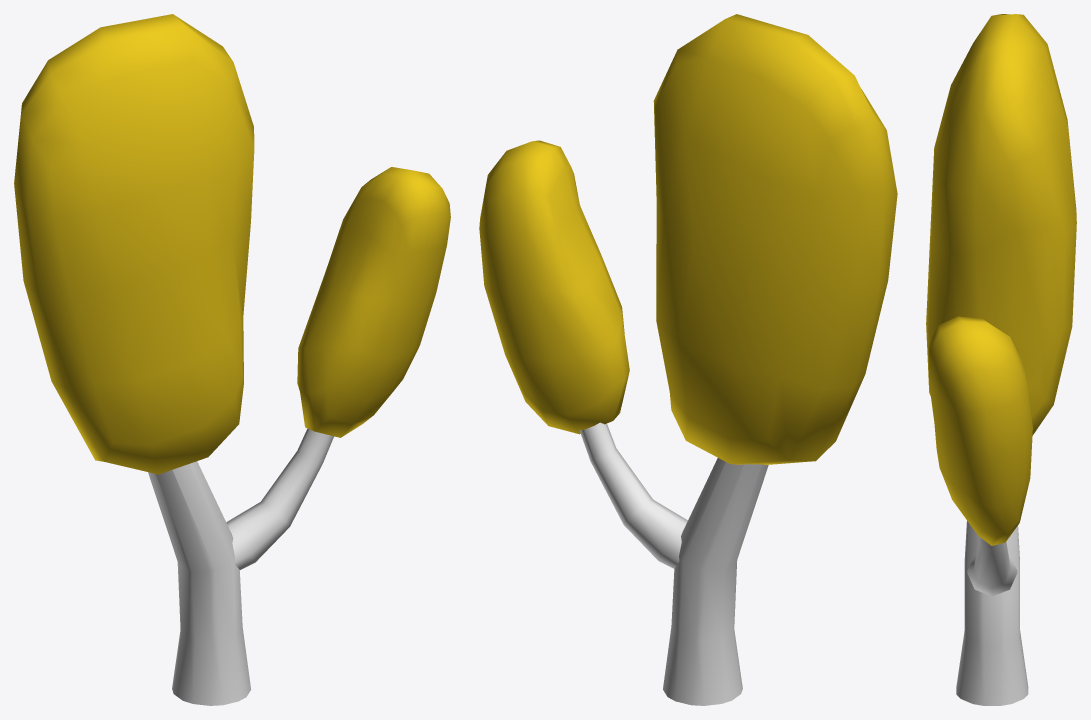
Rendered from birch 1.1.fbx.
3 renders of one model, left to right at view 1: azimuth 30°, elevation 25°; view 2: azimuth 150°, elevation 25°; view 3: azimuth 270°, elevation 25°, orthographic. The views are drawn at different scales.
Parts seen in each view (by area): view 1: Cube.001, Cube, Cylinder, Cylinder.001; view 2: Cube.001, Cube, Cylinder, Cylinder.001; view 3: Cube.001, Cube, Cylinder, Cylinder.001.
Part boxes in pixels (x1=…): Cube.001: x1=14, y1=14, x2=254, y2=474; Cube: x1=297, y1=167, x2=450, y2=437; Cylinder: x1=148, y1=461, x2=251, y2=705; Cylinder.001: x1=226, y1=428, x2=333, y2=569; Cube.001: x1=653, y1=14, x2=897, y2=464; Cube: x1=479, y1=140, x2=629, y2=434; Cylinder: x1=663, y1=458, x2=768, y2=705; Cylinder.001: x1=579, y1=422, x2=687, y2=568; Cube.001: x1=926, y1=14, x2=1076, y2=435; Cube: x1=928, y1=316, x2=1032, y2=545; Cylinder: x1=956, y1=521, x2=1028, y2=705; Cylinder.001: x1=967, y1=535, x2=1017, y2=596.
Bounding box in the file's own units: 710 × 1113 × 241.
